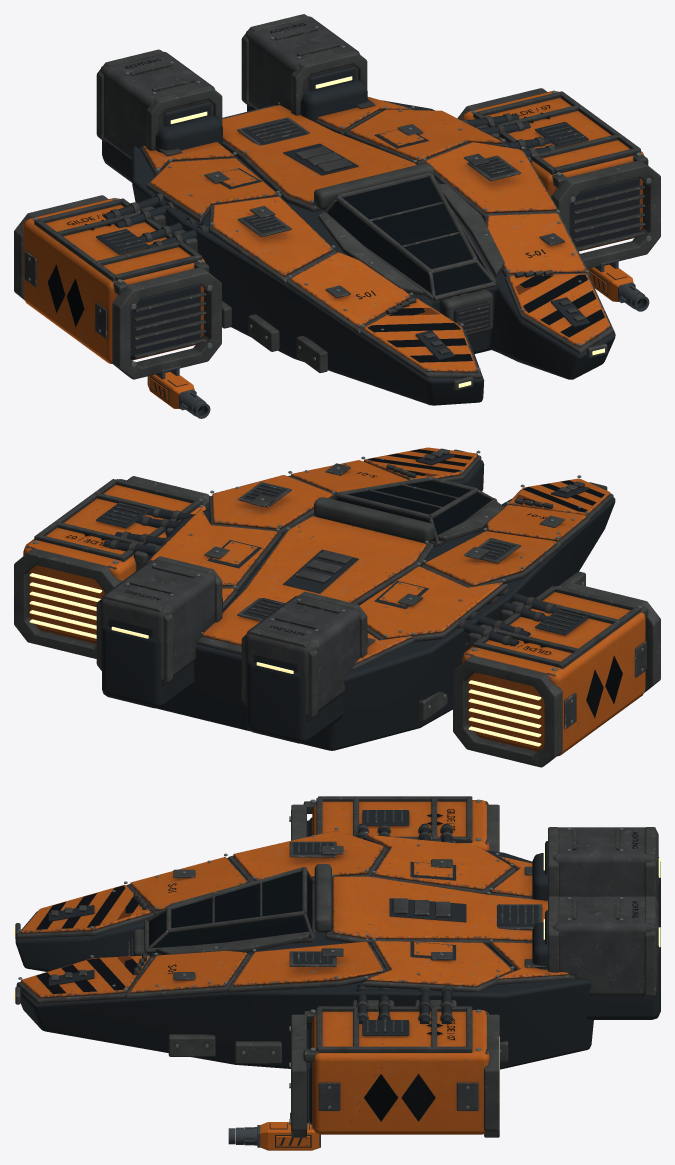
The model's file is saturn-starter.glb.
3 views of the same model, one above another, from view 1: azimuth 30°, elevation 25°; view 2: azimuth 150°, elevation 25°; view 3: azimuth 270°, elevation 25° (orthographic). The views are drawn at different scales.
Parts seen in each view (by area): view 1: Hull_saturn_Armor, Generator_Port_Geometry, Hull_saturn_EdgeGuards, Hull_saturn_BrushedAlloy, Hull_saturn_SmokedOptics, Hull_saturn_Caution, Hull_saturn_DecalPale; view 2: Hull_saturn_Armor, Generator_Port_Geometry, Hull_saturn_EdgeGuards, Hull_saturn_BrushedAlloy, Hull_saturn_SmokedOptics, Hull_saturn_Caution, Hull_saturn_DecalPale; view 3: Hull_saturn_Armor, Generator_Port_Geometry, Hull_saturn_BrushedAlloy, Hull_saturn_EdgeGuards, Hull_saturn_SmokedOptics, Hull_saturn_Caution, Hull_saturn_DecalPale.
Boxes of the visible parts, <box> form: Hull_saturn_Armor: <box>23,91,644,372</box>; Generator_Port_Geometry: <box>28,26,651,418</box>; Hull_saturn_EdgeGuards: <box>14,14,660,390</box>; Hull_saturn_BrushedAlloy: <box>24,16,648,358</box>; Hull_saturn_SmokedOptics: <box>198,177,640,410</box>; Hull_saturn_Caution: <box>48,116,604,362</box>; Hull_saturn_DecalPale: <box>67,23,549,326</box>; Hull_saturn_Armor: <box>23,447,645,756</box>; Generator_Port_Geometry: <box>29,450,643,750</box>; Hull_saturn_EdgeGuards: <box>14,449,660,767</box>; Hull_saturn_BrushedAlloy: <box>26,448,648,728</box>; Hull_saturn_SmokedOptics: <box>336,480,490,540</box>; Hull_saturn_Caution: <box>101,449,604,717</box>; Hull_saturn_DecalPale: <box>65,530,622,703</box>; Hull_saturn_Armor: <box>21,800,569,1134</box>; Generator_Port_Geometry: <box>14,799,660,1150</box>; Hull_saturn_BrushedAlloy: <box>50,796,658,1110</box>; Hull_saturn_EdgeGuards: <box>15,804,655,1137</box>; Hull_saturn_SmokedOptics: <box>149,871,312,947</box>; Hull_saturn_Caution: <box>36,813,442,1121</box>; Hull_saturn_DecalPale: <box>364,809,637,1121</box>.
Size of the model in its own units: 7.87 by 2.38 by 8.29.
9 materials, 7 textured.
